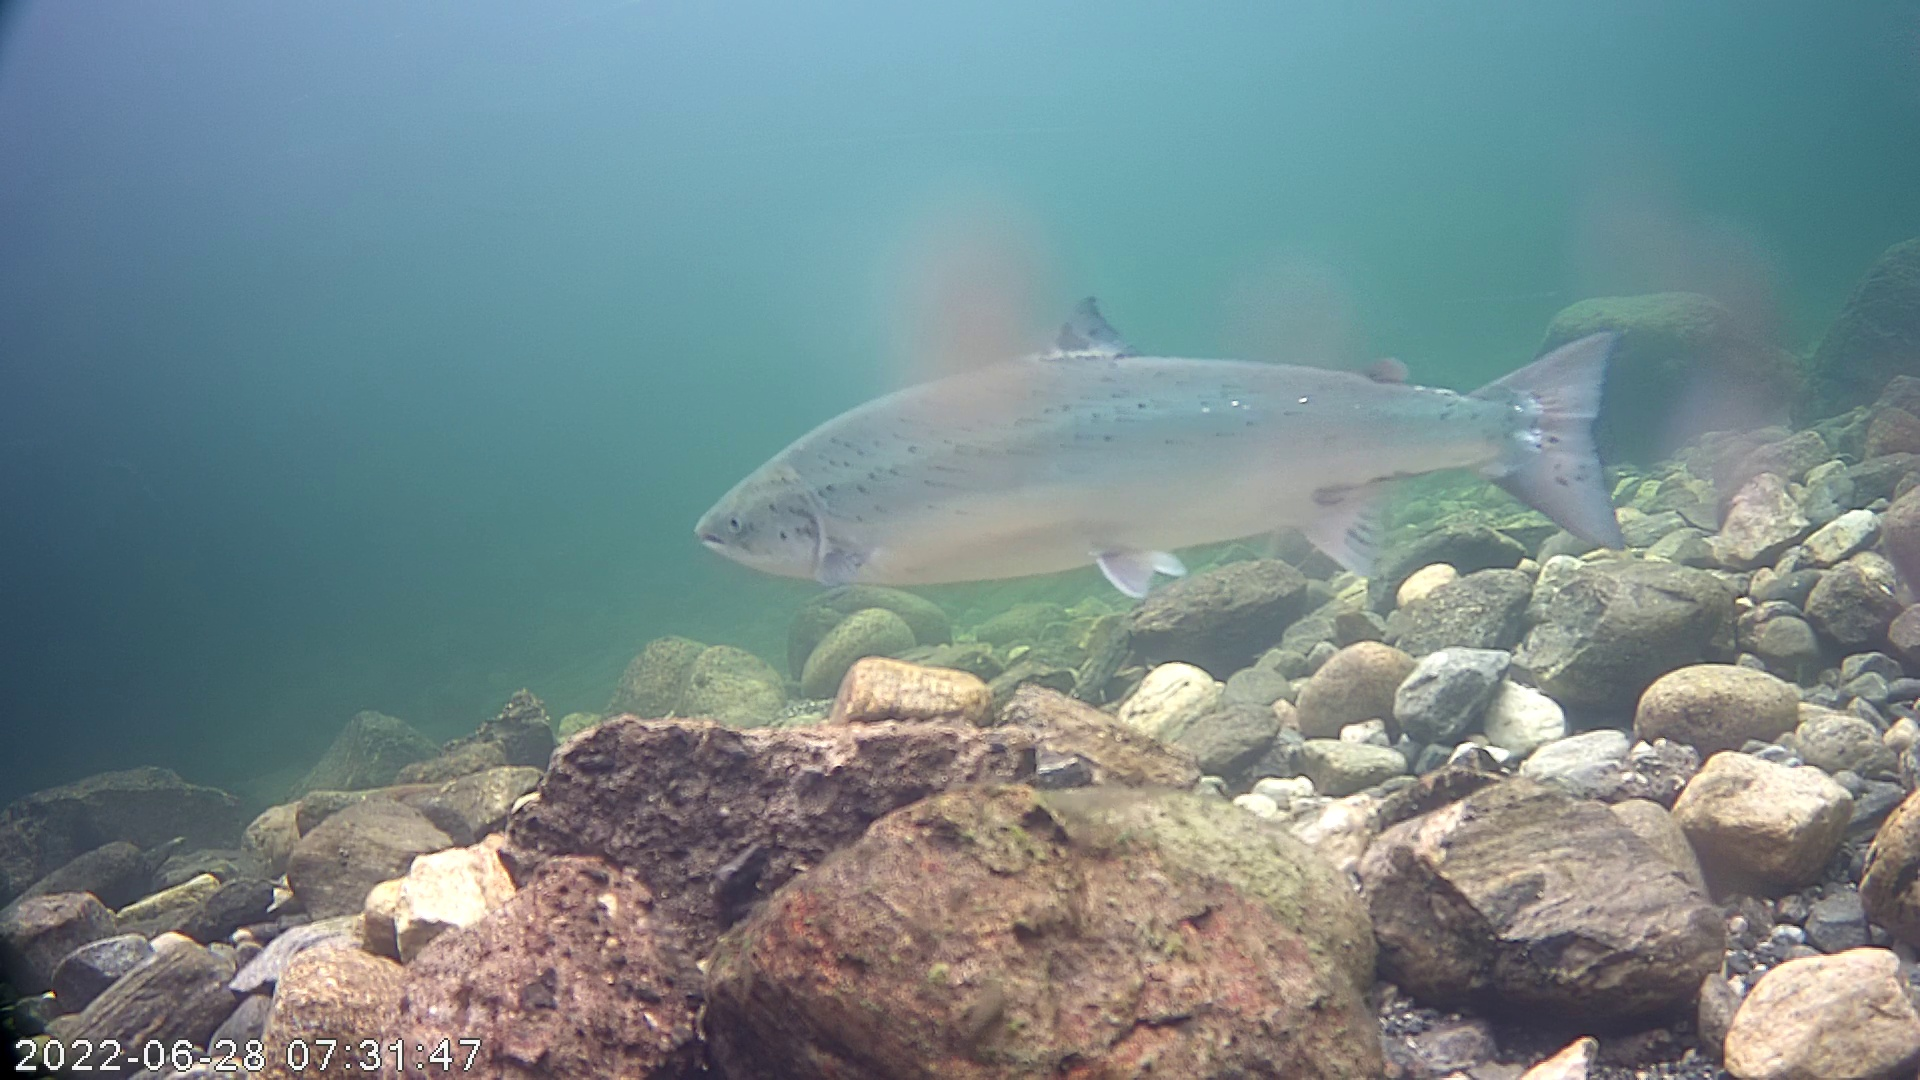salmon: (695, 220, 1646, 655)
